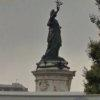Statue: (30, 2, 73, 75)
